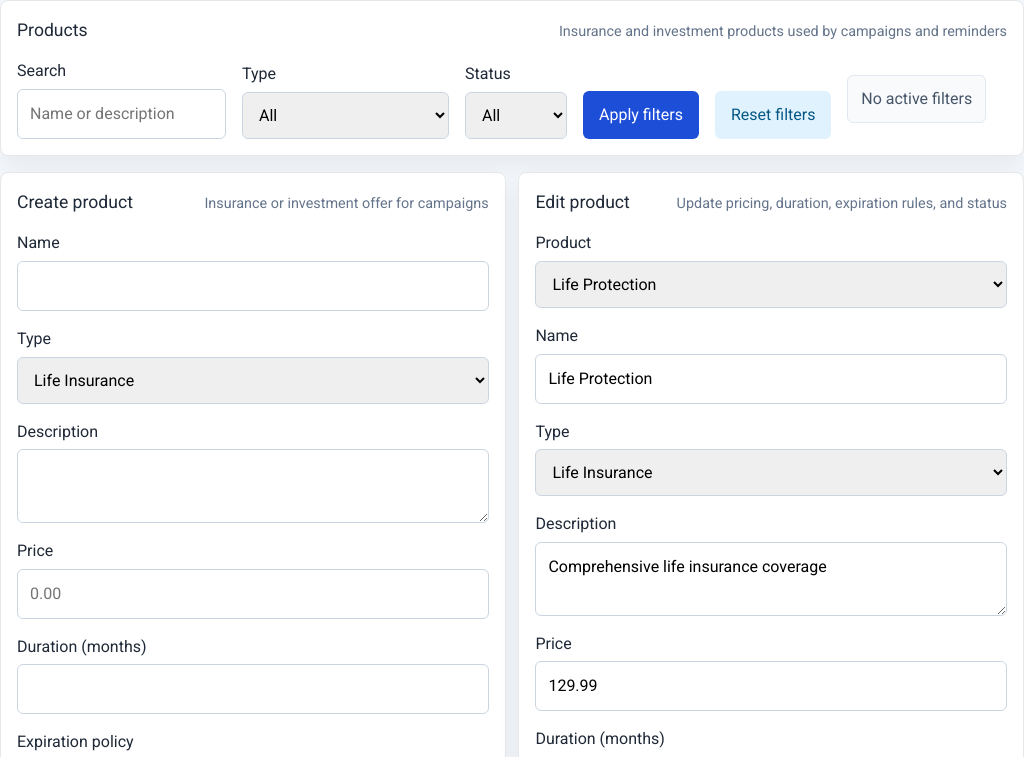
ProductsPage › allows a product manager to filter products by type only
Select "Investment Fund" in the dropdown named "Product type filter" at (346, 116), box [242, 92, 449, 139]
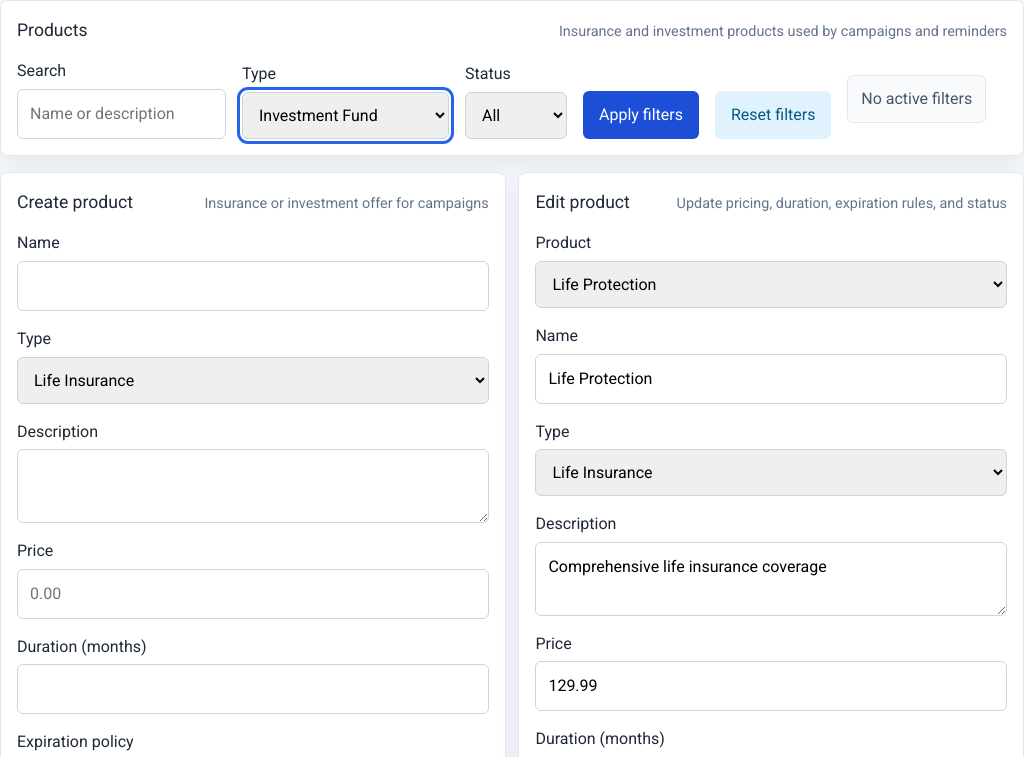
Click the button "Apply filters" at (641, 115), box [583, 91, 699, 139]
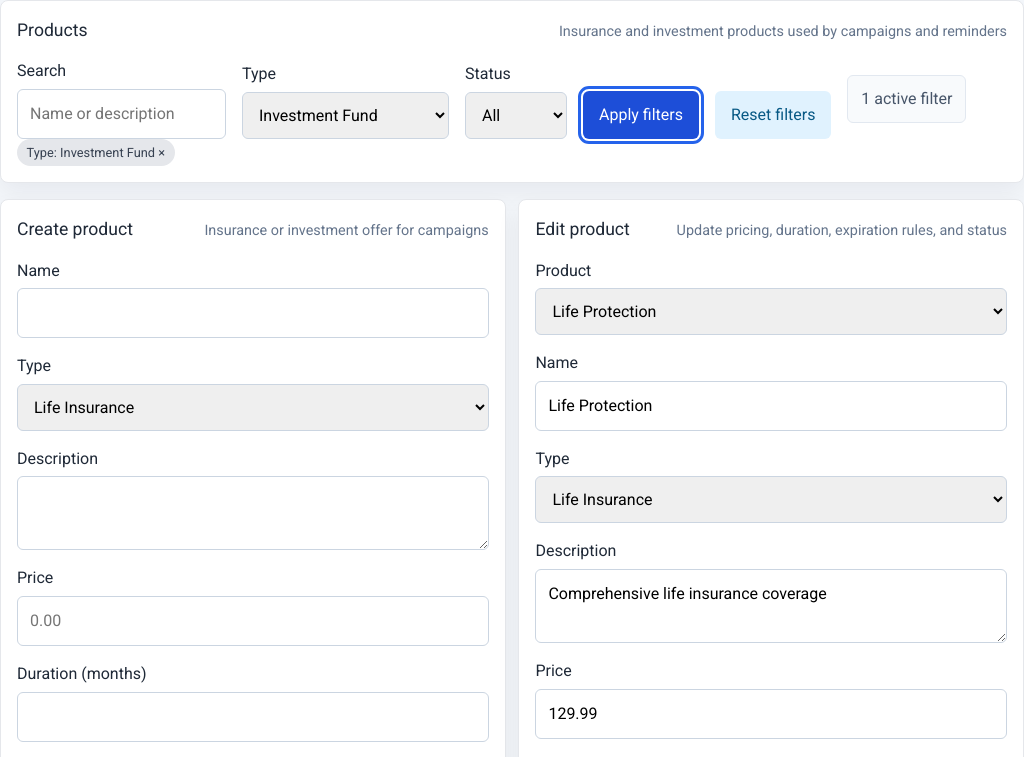
Expected: the text "1 active filter" is shown, [848, 75, 966, 123]
Expected: the button with aria-label "Remove Type: Investment Fund" is shown, [17, 139, 175, 166]
